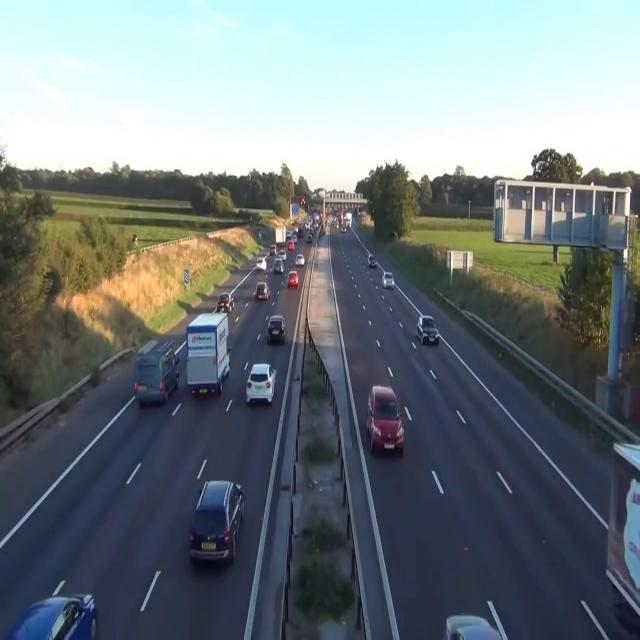belum terisi: (189, 470, 250, 573), (9, 580, 107, 640), (356, 372, 411, 471), (182, 304, 236, 400), (131, 328, 184, 422), (246, 348, 276, 411), (412, 305, 441, 353), (261, 307, 290, 348), (252, 276, 272, 305), (380, 262, 397, 292), (285, 266, 302, 290)
